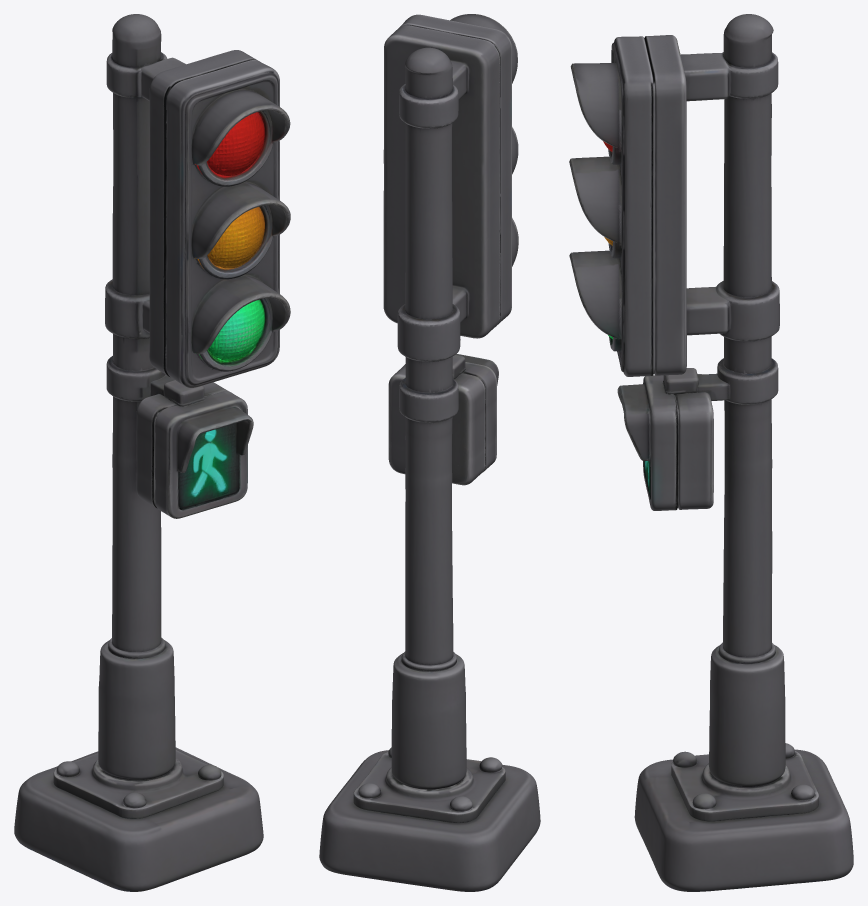
File: TrafficLight.glb
3 views of the same model, side by side, from view 1: azimuth 30°, elevation 25°; view 2: azimuth 150°, elevation 25°; view 3: azimuth 270°, elevation 25° (orthographic). The views are drawn at different scales.
Visible parts, largest first — view 1: tripo_node_80d06978-21e6-4967-8237-d883990c7dfe; view 2: tripo_node_80d06978-21e6-4967-8237-d883990c7dfe; view 3: tripo_node_80d06978-21e6-4967-8237-d883990c7dfe.
Boxes of the visible parts, bbox=[...] form: tripo_node_80d06978-21e6-4967-8237-d883990c7dfe: bbox=[14, 14, 290, 891]; tripo_node_80d06978-21e6-4967-8237-d883990c7dfe: bbox=[319, 14, 540, 891]; tripo_node_80d06978-21e6-4967-8237-d883990c7dfe: bbox=[569, 14, 853, 891].
Bounding box in the file's own units: 0.2356 × 0.9808 × 0.3047.
1 material, 1 textured.
